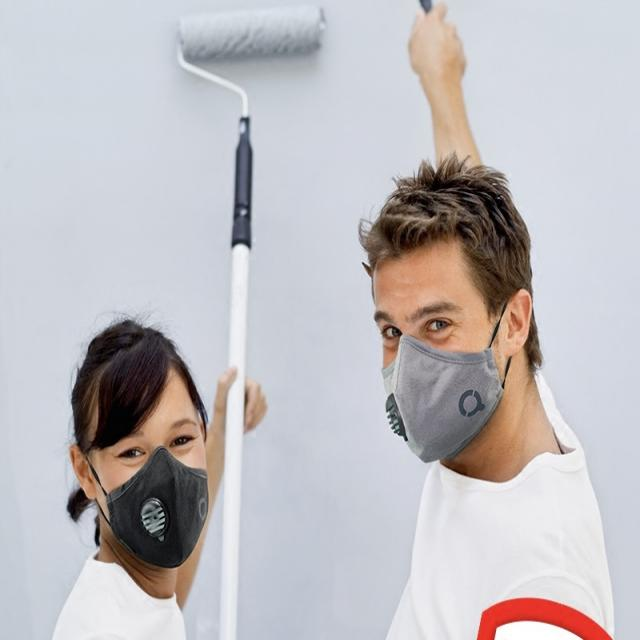mask: (371, 238, 498, 449), (90, 368, 208, 554)
